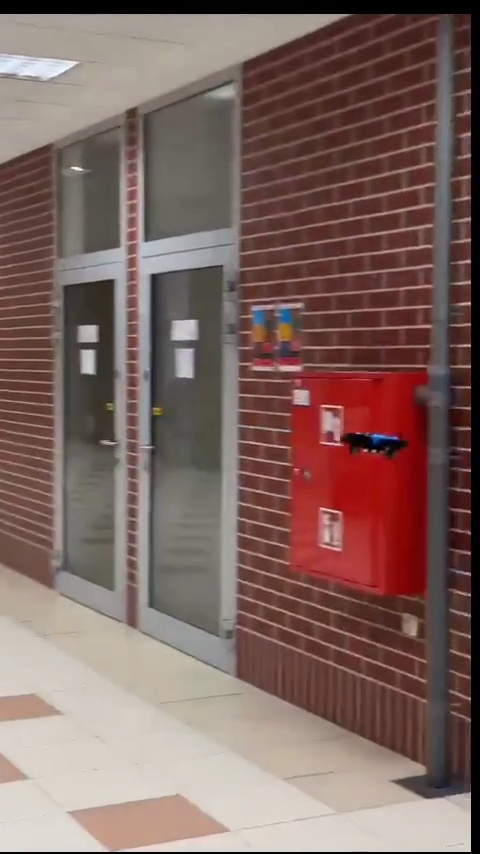drone: (346, 430, 402, 461)
